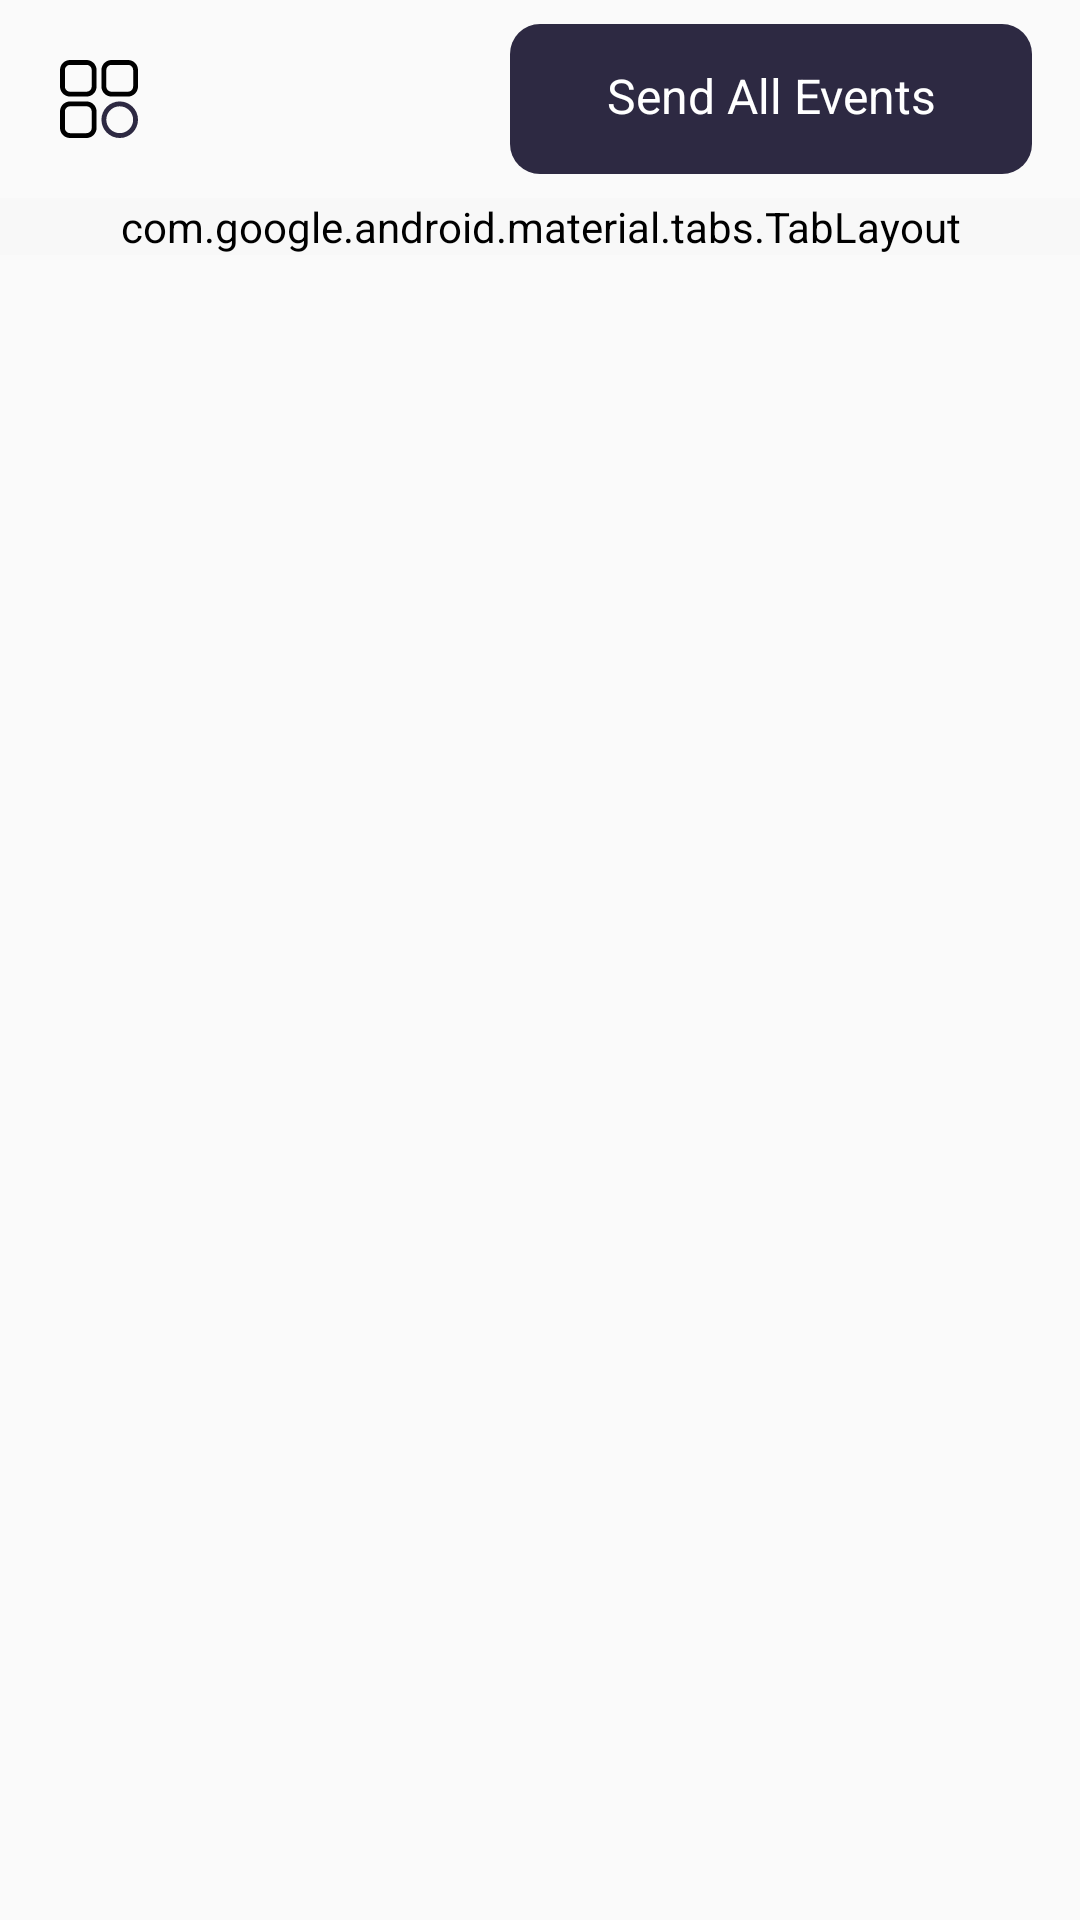

Named icons in this screenshot (1080w x 1920h) and their bounding boxes, [left=x1, top=y1, right=x2, bottom=y2]:
home menu: [left=60, top=60, right=138, bottom=138]
